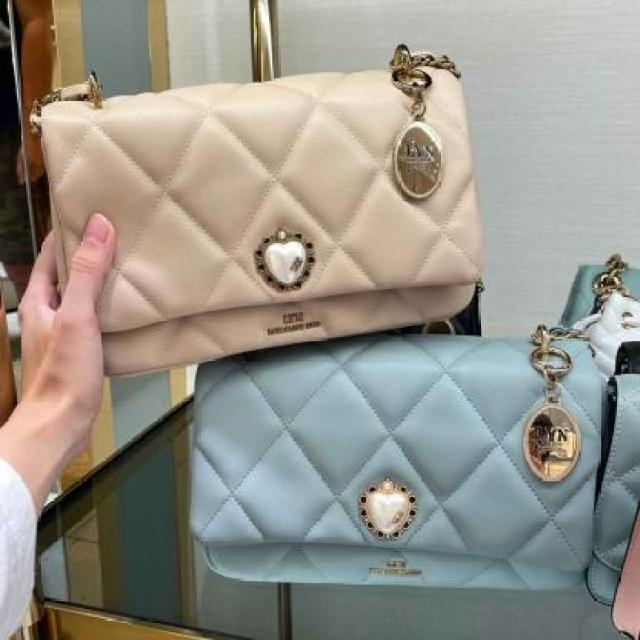Bag: (0, 0, 497, 386), (155, 318, 634, 622)
